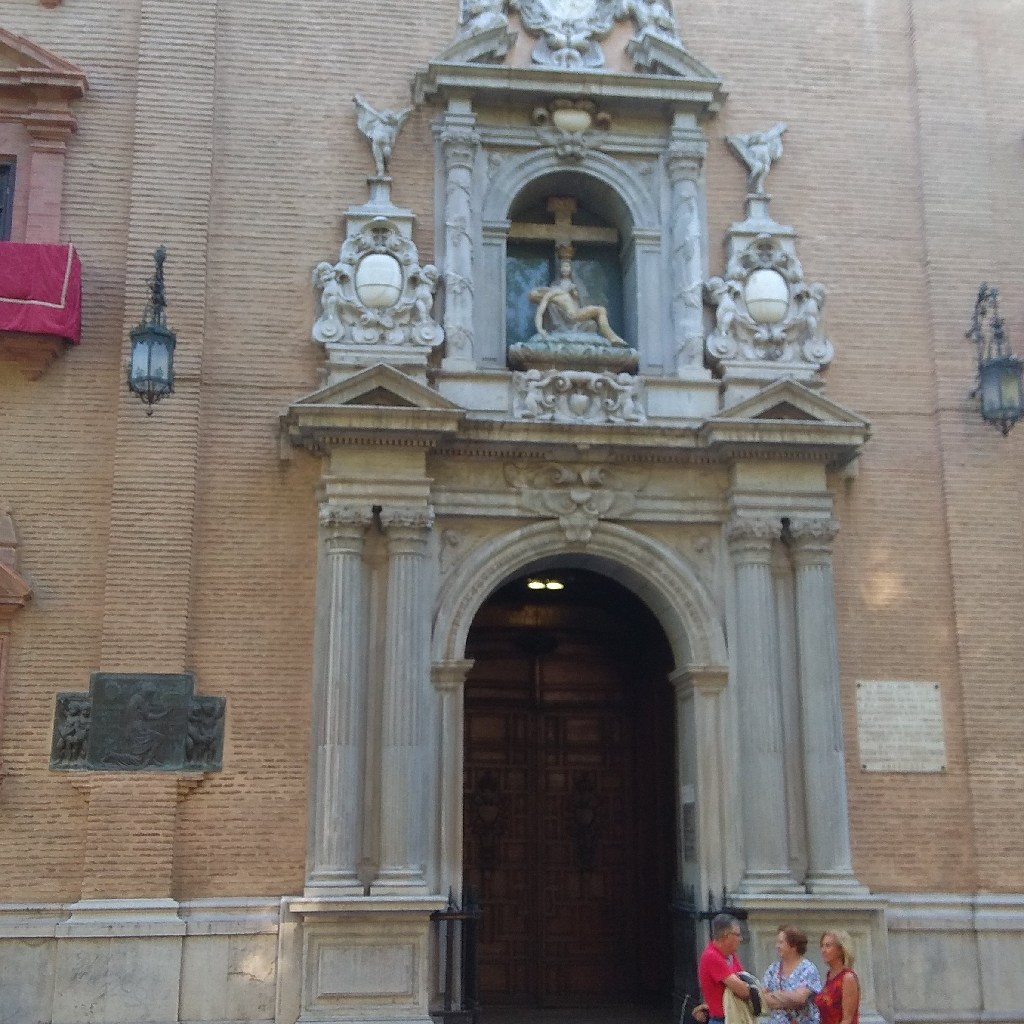arco-medio-punto: (451, 540, 705, 710), (498, 159, 645, 261)
fronton: (286, 361, 471, 429), (704, 376, 871, 442)
fronton-partido: (424, 22, 724, 99)
